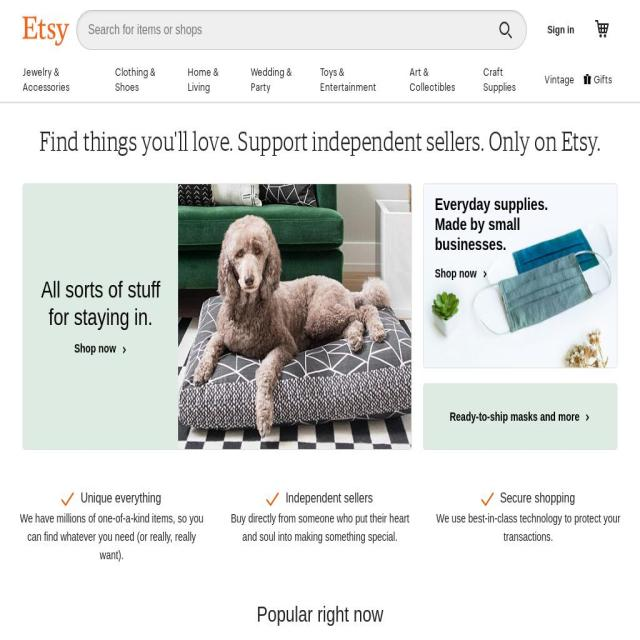button: (22, 183, 412, 450), (22, 64, 108, 94), (320, 64, 402, 94), (114, 64, 180, 94), (410, 64, 476, 94), (250, 64, 313, 94), (188, 64, 243, 94), (482, 64, 537, 94), (538, 15, 584, 45)
field: (76, 10, 489, 50)
heading: (22, 598, 618, 630), (8, 128, 632, 158), (434, 195, 548, 253), (41, 277, 160, 331), (449, 410, 558, 423), (278, 491, 372, 505), (72, 491, 162, 505), (493, 491, 575, 505), (558, 410, 580, 423)
text: (19, 508, 205, 564), (227, 508, 413, 546), (435, 508, 621, 546), (320, 64, 377, 94), (22, 64, 70, 94), (410, 64, 456, 94), (114, 64, 156, 94), (250, 64, 292, 94), (482, 64, 516, 94), (188, 64, 220, 94), (544, 71, 574, 86), (434, 267, 460, 280), (74, 342, 98, 356), (594, 71, 612, 86), (98, 342, 116, 356), (459, 267, 477, 280)
